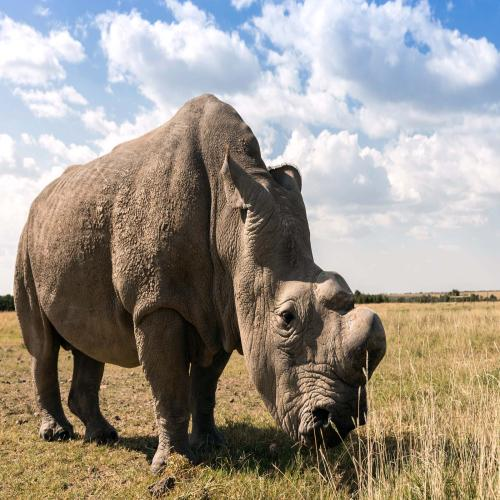rhino-endangered: (13, 92, 386, 474)
